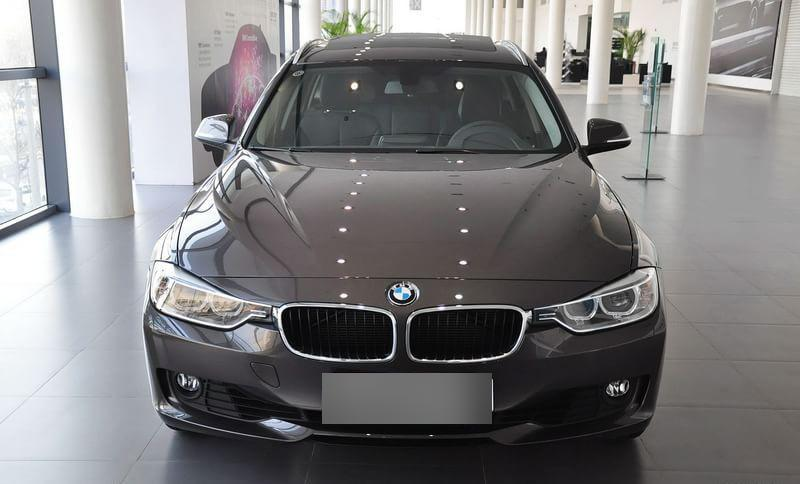Wagon: (142, 30, 668, 449)
